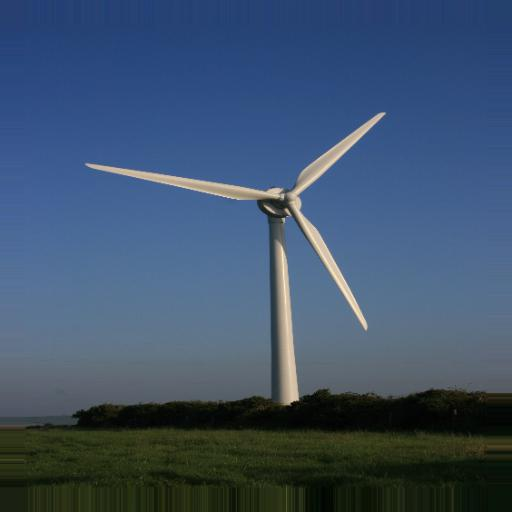wind turbine: (83, 111, 387, 407)
